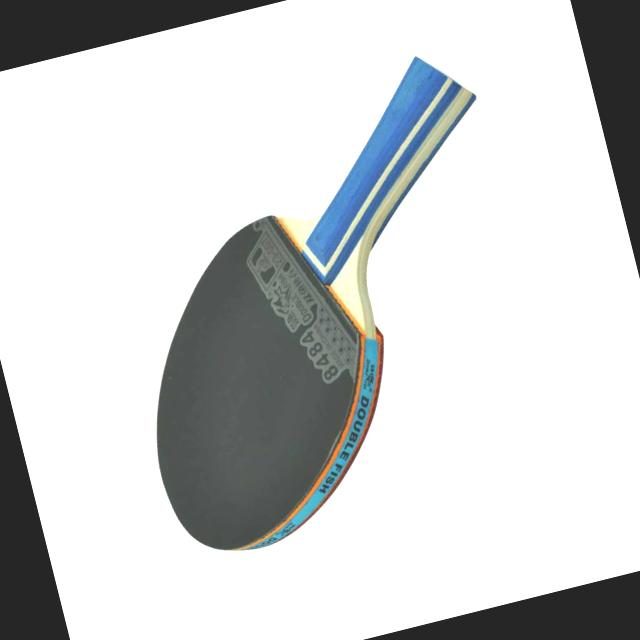TT Racket: (15, 131, 515, 632)
